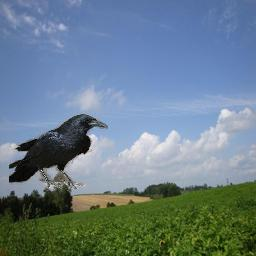Crow: (10, 113, 109, 189)
